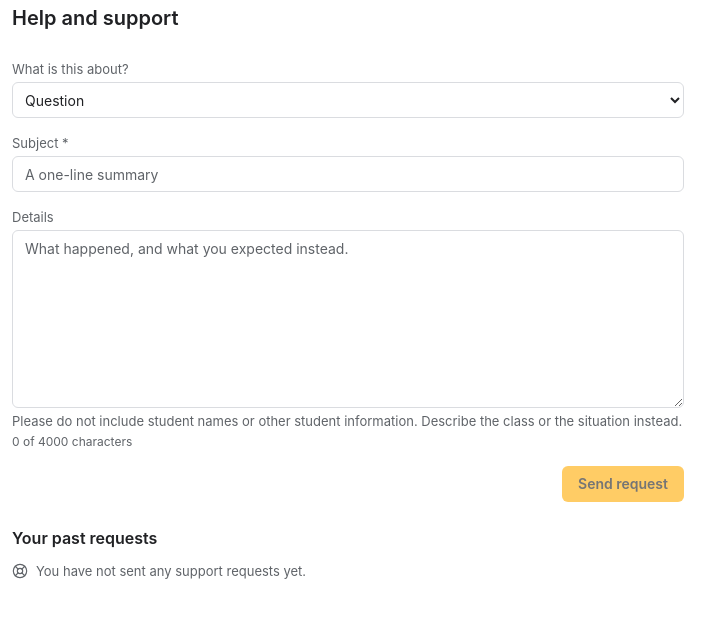
it: SupportPage › sends the request, clears the form, and reloads the list
Type "Attendance will not save" into the field labelled "Subject *" at x=348, y=174, box [12,156,684,192]
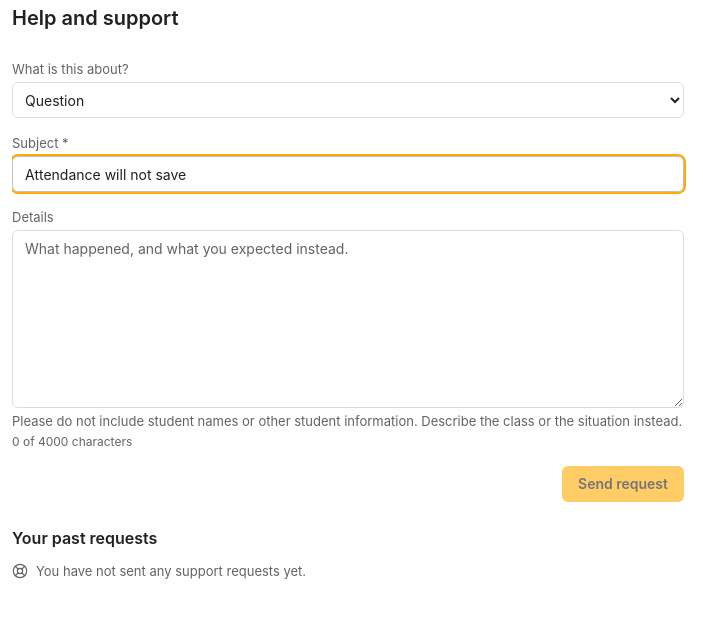
Type "It spins forever." into the text box labelled "Details" at x=348, y=319, box [12,230,684,408]
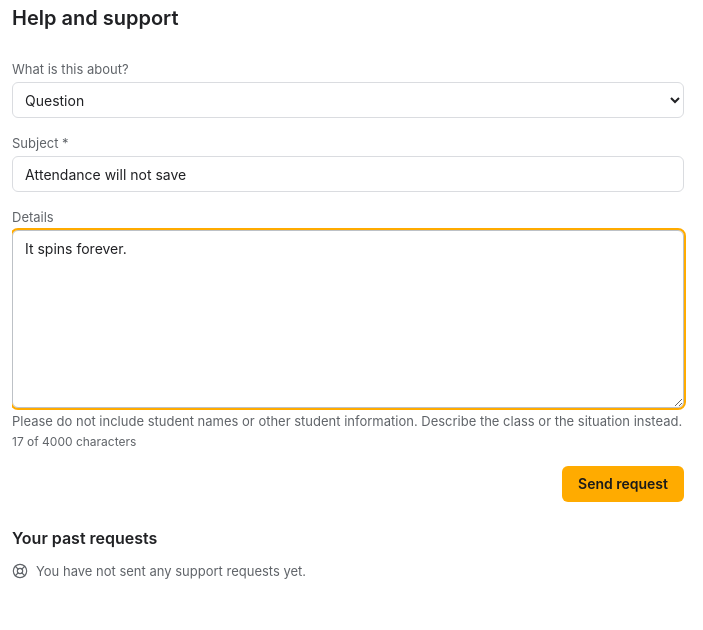
Click the button "Send request" at x=623, y=484, box [562,466,684,502]
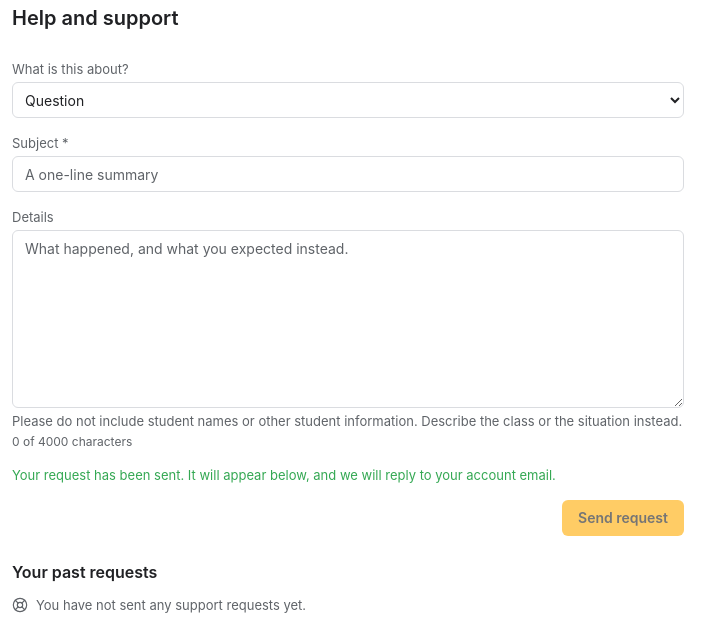
Result: the message shows "has been sent" at [12,467,556,483]
Result: the field labelled "Subject *" is empty at [12,156,684,192]
